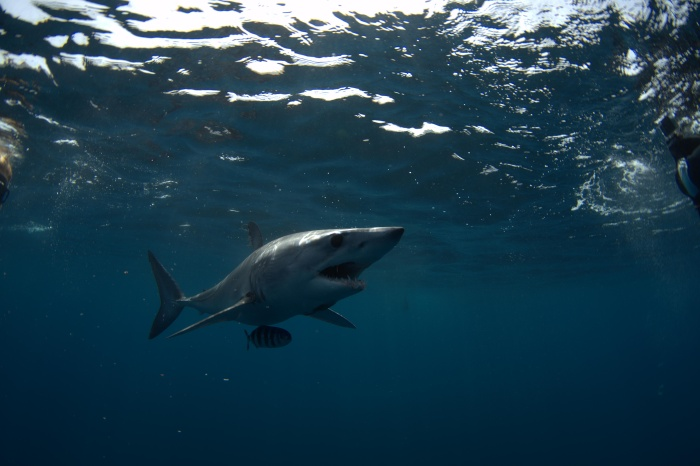Mako: (142, 207, 415, 356)
